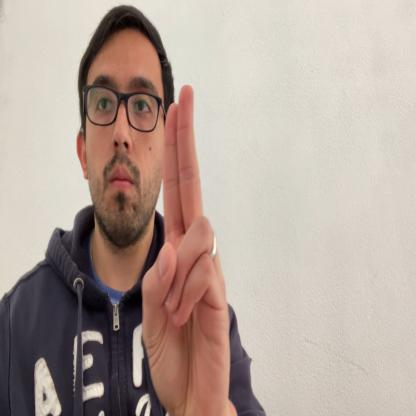U: (142, 85, 231, 415)
